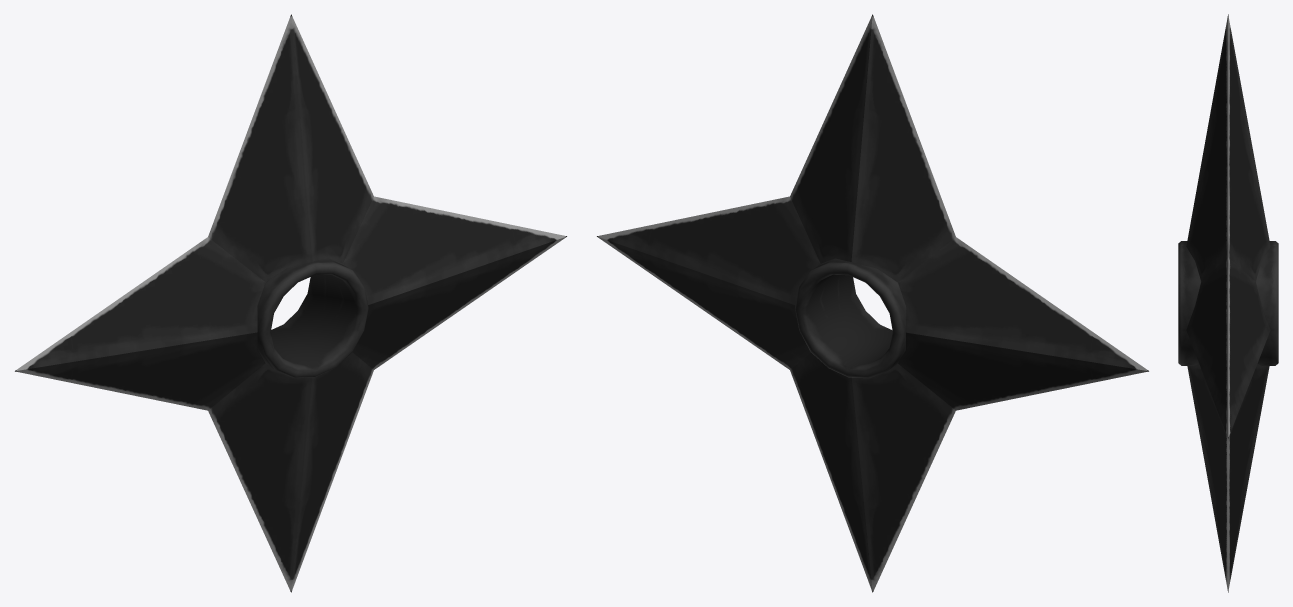
File: shuriken.glb
3 renders of one model, left to right at view 1: azimuth 30°, elevation 25°; view 2: azimuth 150°, elevation 25°; view 3: azimuth 270°, elevation 25°, orthographic.
Parts seen in each view (by area): view 1: lp_shuriken_e_0; view 2: lp_shuriken_e_0; view 3: lp_shuriken_e_0.
Boxes of the visible parts, x1=… form: lp_shuriken_e_0: x1=15, y1=14, x2=566, y2=592; lp_shuriken_e_0: x1=597, y1=14, x2=1148, y2=592; lp_shuriken_e_0: x1=1178, y1=14, x2=1278, y2=592.
Size of the model in its own units: 10.18 by 10.18 by 1.6.
Materials: 1 (1 with a texture image).
